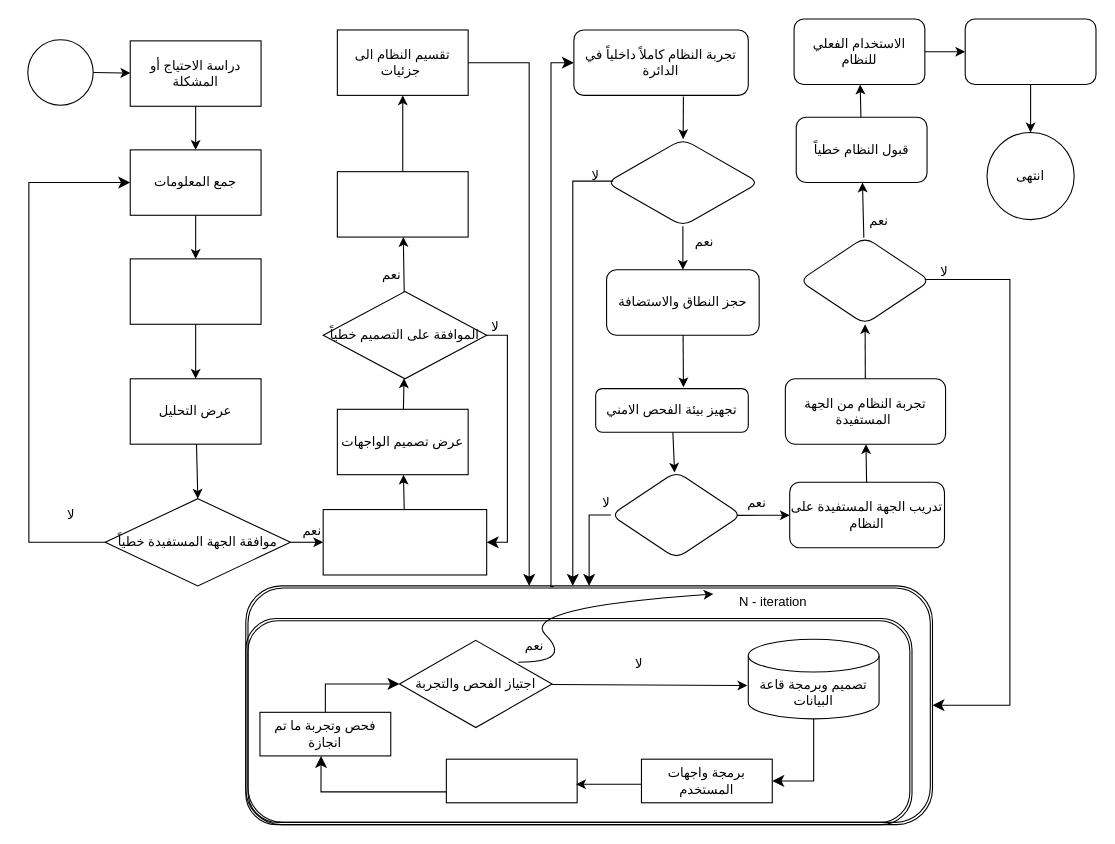
Some shapes in this 1115 by 844 pixel diagram are drawn without their labels. The centre of each missing label's shape, as x and y in pixels:
"ابدأ" belongs at point 60,72.
"اجتياز الفحص الامني" belongs at point 676,514.
"اجتياز الفحص الكلي للنظام" belongs at point 682,182.
"تحليل النظام" belongs at point 195,291.
"تصميم واجهات المستخدم UI/UX" belongs at point 404,541.
"تغذية راجعة" belongs at point 864,280.
"كتابة الكود البرمجي" belongs at point 511,780.
"متابعة استخدام النظام" belongs at point 1030,51.
"وضع الاطار الزمني للنظام" belongs at point 402,204.
